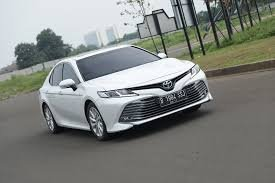mobil: (34, 41, 216, 141)
